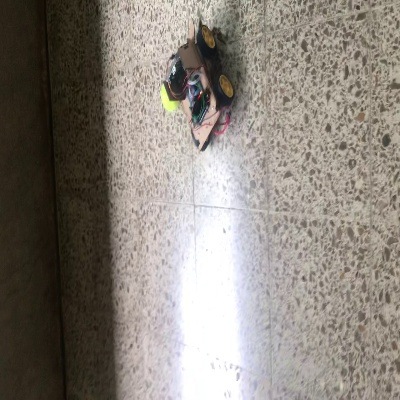Ball: (160, 84, 176, 111)
Robot: (162, 25, 234, 152)
